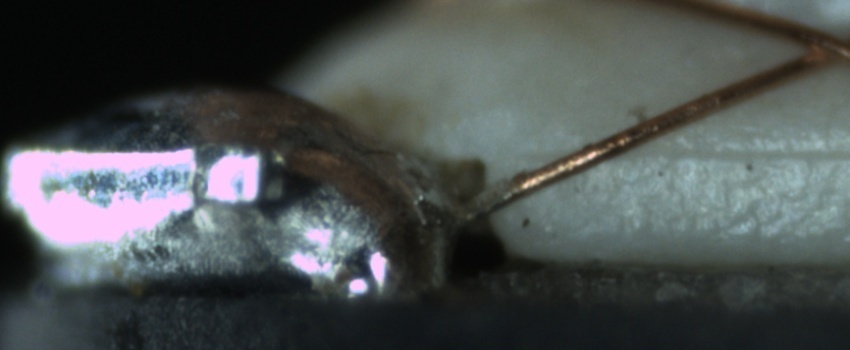CL: (778, 17, 847, 77)
DL: (546, 120, 850, 184)
TS: (460, 185, 513, 225)
